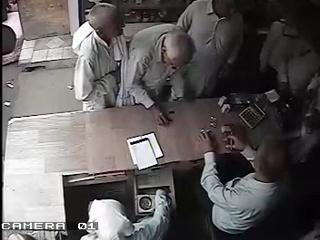Normal: (197, 113, 296, 240), (116, 24, 196, 124), (176, 0, 244, 100), (80, 187, 172, 240)
shoplifting: (71, 2, 128, 111)
